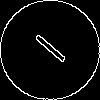I: (25, 25, 69, 66)
